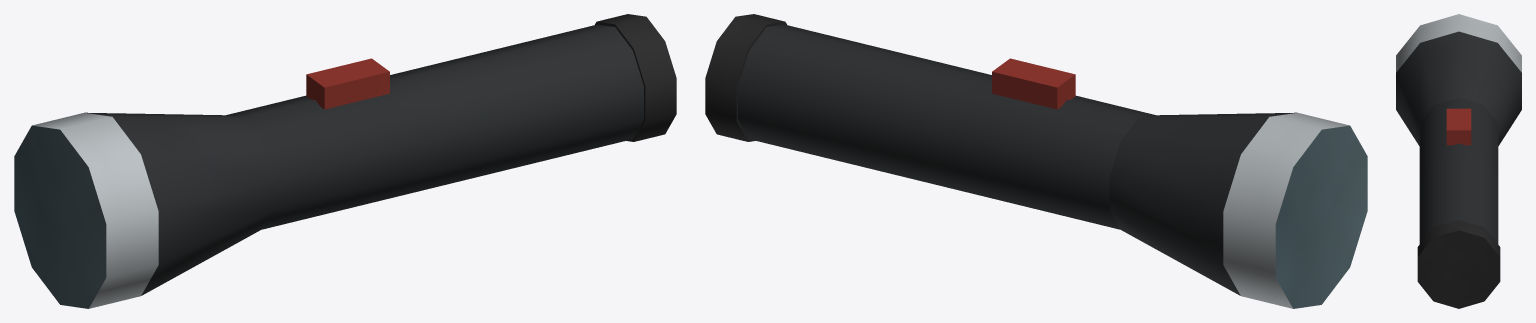
File: flashlight.fbx
The picture shows the model from 3 angles, left to right: view 1: azimuth 30°, elevation 25°; view 2: azimuth 150°, elevation 25°; view 3: azimuth 270°, elevation 25°; orthographic projection. The views are drawn at different scales.
Parts seen in each view (by area): view 1: flashlight; view 2: flashlight; view 3: flashlight.
Boxes of the visible parts, <box> form: flashlight: <box>14,14,676,308</box>; flashlight: <box>705,14,1367,308</box>; flashlight: <box>1396,14,1521,308</box>.
Size of the model in its own units: 0.224 by 0.064 by 0.0609.
Materials: 1 (1 with a texture image).
